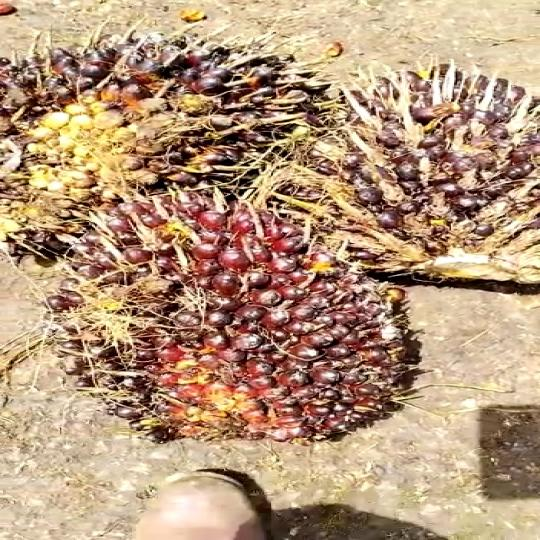kurang masak: (30, 193, 425, 456), (287, 45, 540, 299), (4, 32, 285, 254)
